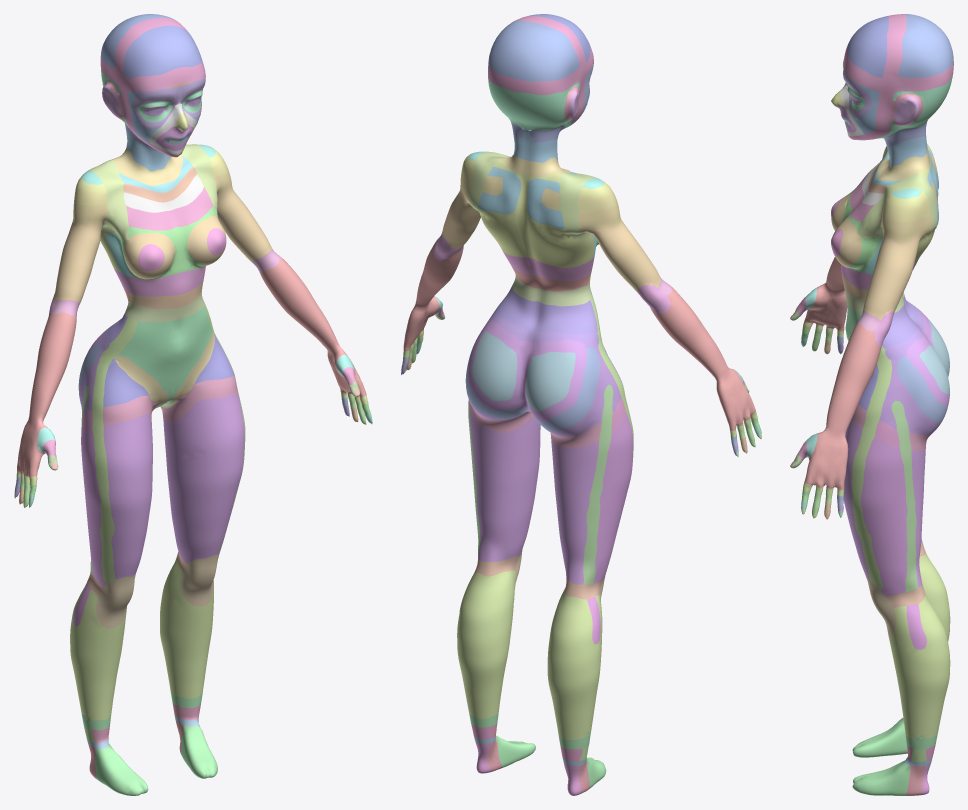
File: character_retopology_atempt.glb
3 views of the same model, side by side, from view 1: azimuth 30°, elevation 25°; view 2: azimuth 150°, elevation 25°; view 3: azimuth 270°, elevation 25° (orthographic).
Parts seen in each view (by area): view 1: Tentativa_de_retopo_zbrush; view 2: Tentativa_de_retopo_zbrush; view 3: Tentativa_de_retopo_zbrush.
Part boxes in pixels (bbox=[...]): Tentativa_de_retopo_zbrush: bbox=[14, 14, 372, 795]; Tentativa_de_retopo_zbrush: bbox=[401, 14, 761, 795]; Tentativa_de_retopo_zbrush: bbox=[790, 14, 953, 795].
Bounding box in the file's own units: 0.778 × 1.62 × 0.3208.
